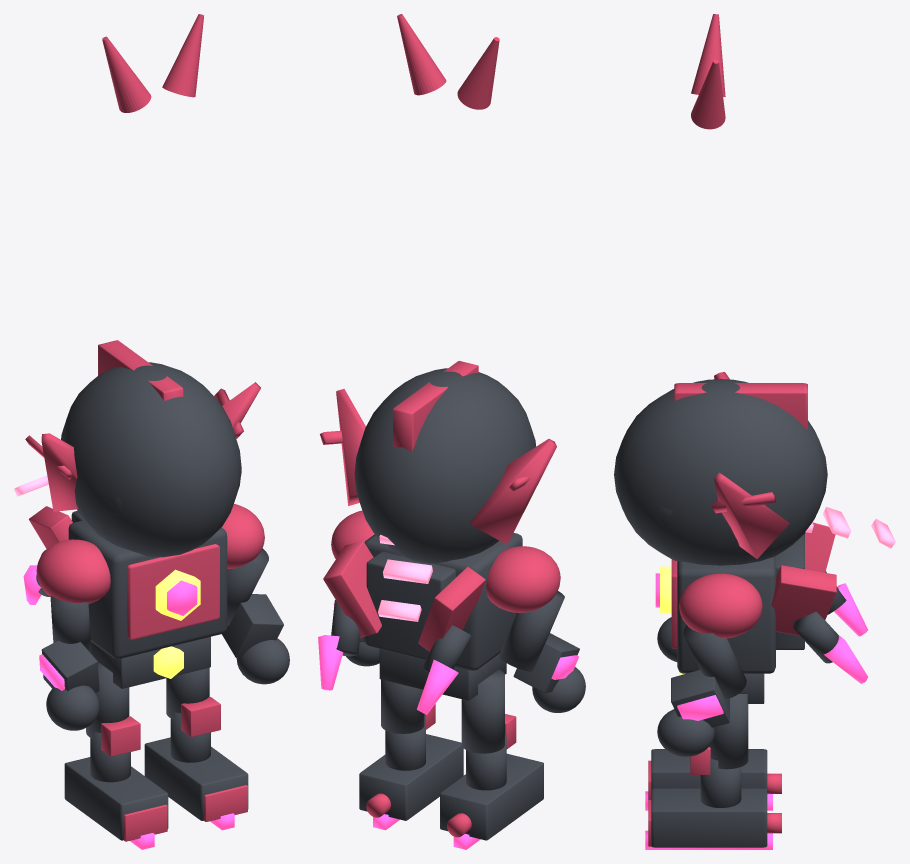
The model's file is player-rival.glb.
3 renders of one model, left to right at view 1: azimuth 30°, elevation 25°; view 2: azimuth 150°, elevation 25°; view 3: azimuth 270°, elevation 25°, orthographic.
Visible parts, largest first — view 1: Head, Torso, Leg_L, Arm_L, Leg_R, Arm_R, Rival_Horn_R, Rival_Horn_L; view 2: Head, Torso, Leg_L, Arm_L, Leg_R, Rival_Horn_R, Scarf, Arm_R, Rival_Horn_L; view 3: Head, Torso, Leg_R, Arm_R, Leg_L, Rival_Horn_R, Rival_Horn_L, Scarf, Arm_L.
Boxes of the visible parts, x1=… form: Head: x1=25, y1=340, x2=260, y2=557; Torso: x1=23, y1=506, x2=227, y2=688; Leg_L: x1=64, y1=662, x2=168, y2=849; Arm_L: x1=36, y1=539, x2=110, y2=730; Leg_R: x1=144, y1=667, x2=248, y2=830; Arm_R: x1=221, y1=504, x2=289, y2=684; Rival_Horn_R: x1=162, y1=14, x2=203, y2=97; Rival_Horn_L: x1=102, y1=36, x2=151, y2=112; Head: x1=320, y1=361, x2=556, y2=563; Torso: x1=318, y1=533, x2=522, y2=714; Leg_L: x1=440, y1=669, x2=543, y2=849; Arm_L: x1=486, y1=546, x2=585, y2=712; Leg_R: x1=359, y1=679, x2=463, y2=830; Rival_Horn_R: x1=397, y1=14, x2=446, y2=95; Scarf: x1=378, y1=534, x2=432, y2=621; Arm_R: x1=331, y1=510, x2=379, y2=666; Rival_Horn_L: x1=457, y1=37, x2=499, y2=109; Head: x1=614, y1=372, x2=827, y2=565; Torso: x1=655, y1=522, x2=867, y2=703; Leg_R: x1=645, y1=694, x2=781, y2=849; Arm_R: x1=657, y1=573, x2=762, y2=756; Leg_L: x1=645, y1=749, x2=781, y2=810; Rival_Horn_R: x1=691, y1=59, x2=725, y2=129; Rival_Horn_L: x1=691, y1=14, x2=725, y2=96; Scarf: x1=805, y1=507, x2=895, y2=548; Arm_L: x1=657, y1=617, x2=677, y2=661.
Bounding box in the file's own units: 0.94 × 3 × 0.971.
